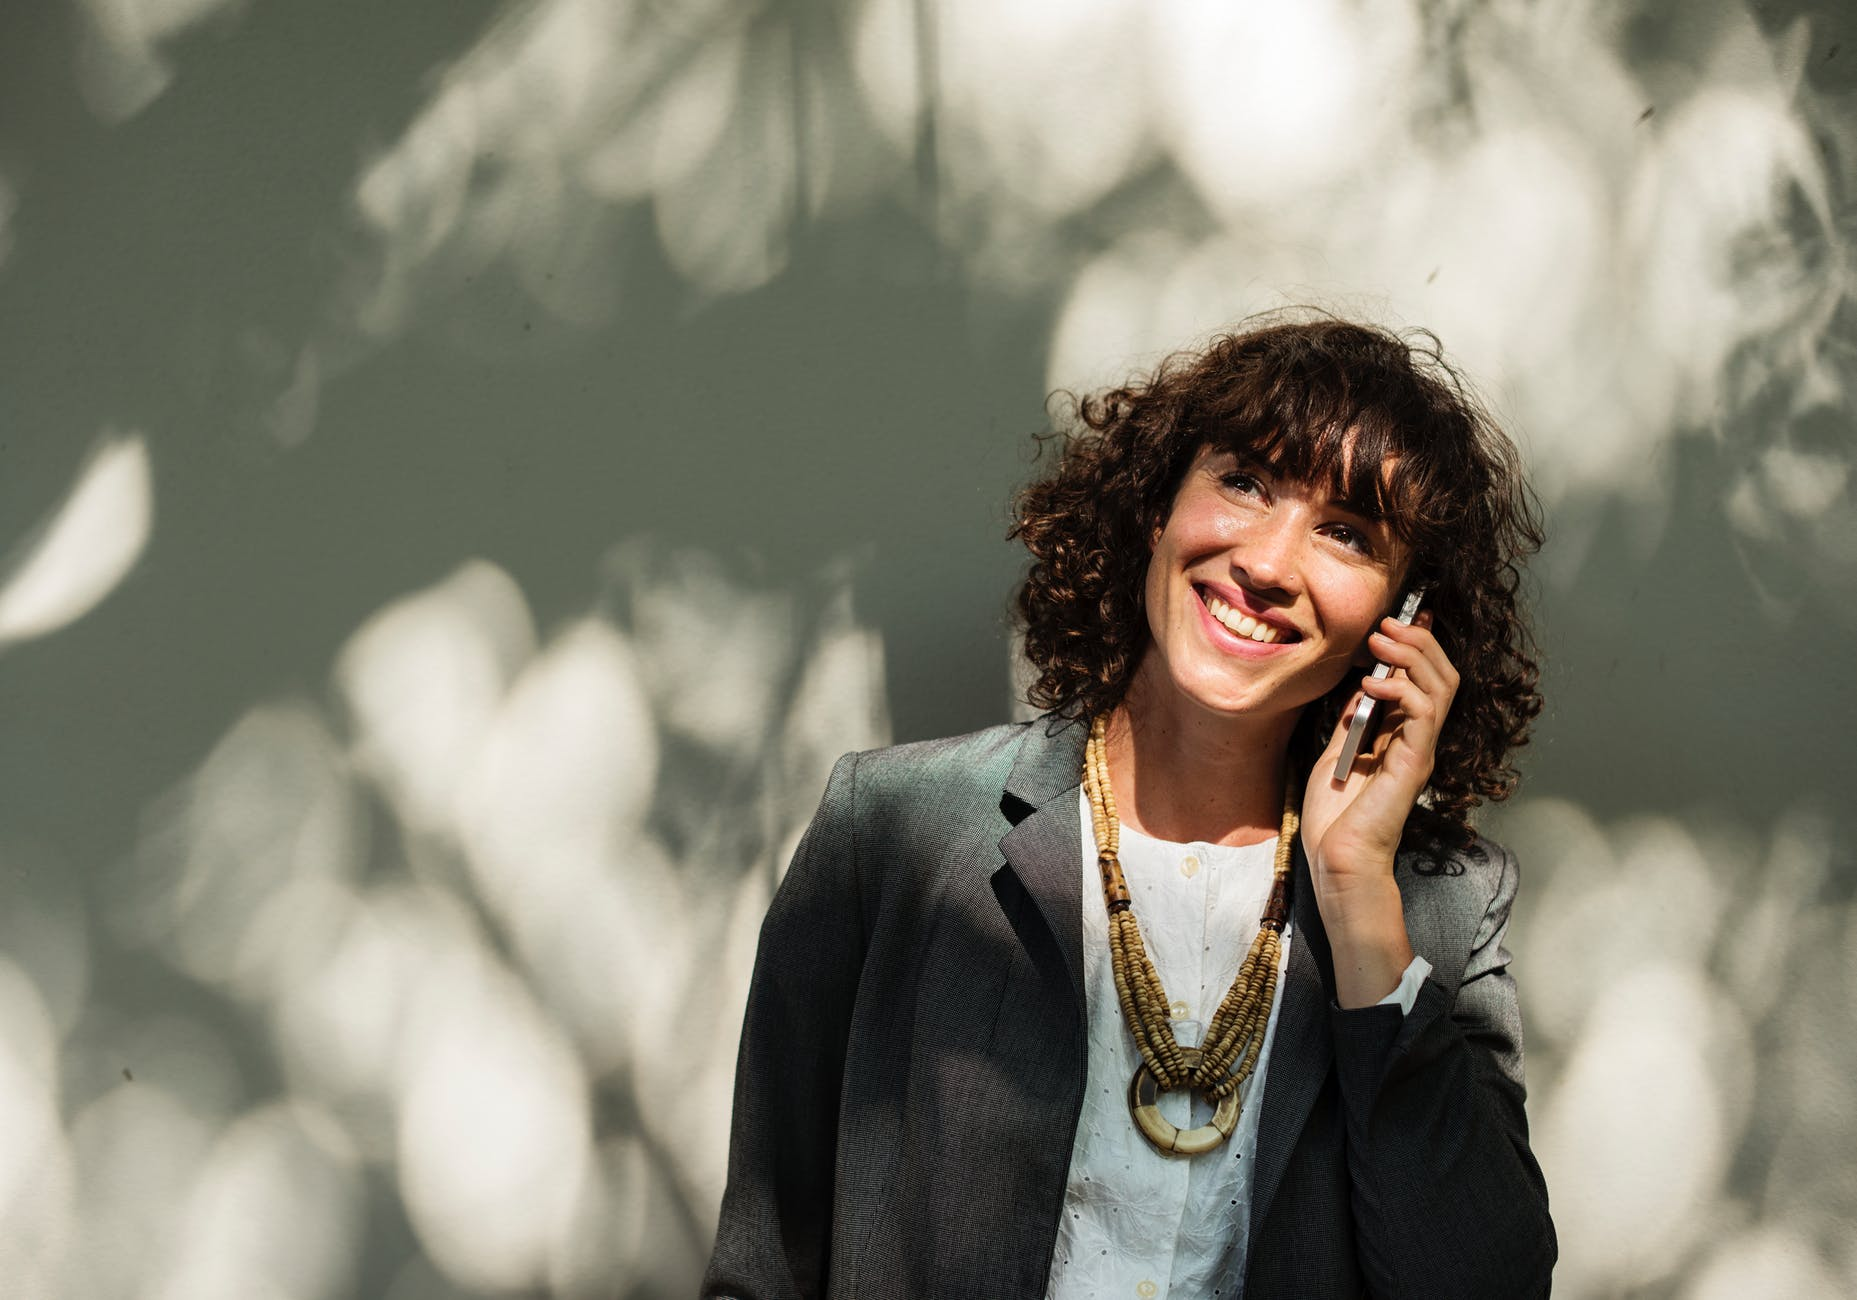phone: (1328, 567, 1486, 824)
talk: (1154, 438, 1483, 893)
